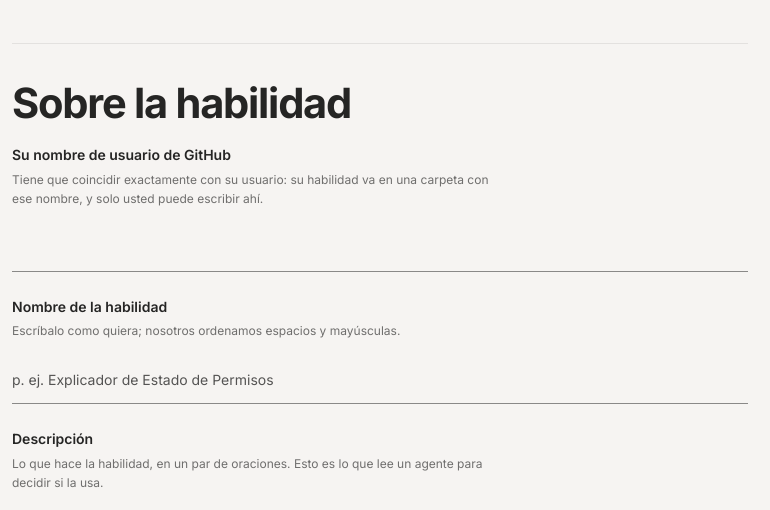
it: the public lookup (api.github.com/users/{name}) › says it could not check in Spanish
The width and height of the screenshot is (770, 510).
(page scrolled)
Type "sgarcese" into the field labelled "Su nombre de usuario de GitHub" at (380, 248), box 12,225 -> 748,272
(page scrolled)
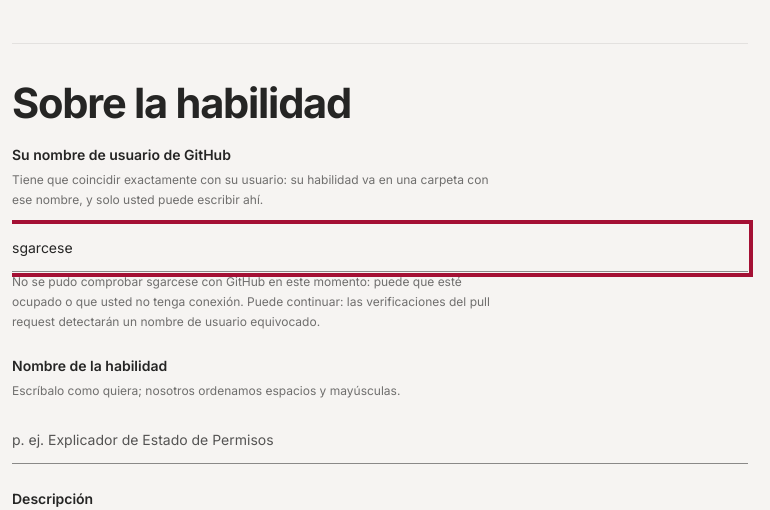
expect the text with test id "user-unchecked" shows "No se pudo comprobar": met, box 12,274 -> 490,329
